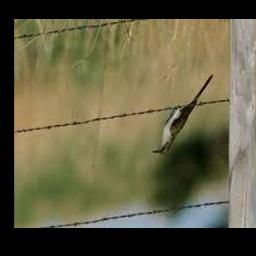Cuckoo: (151, 74, 213, 155)
